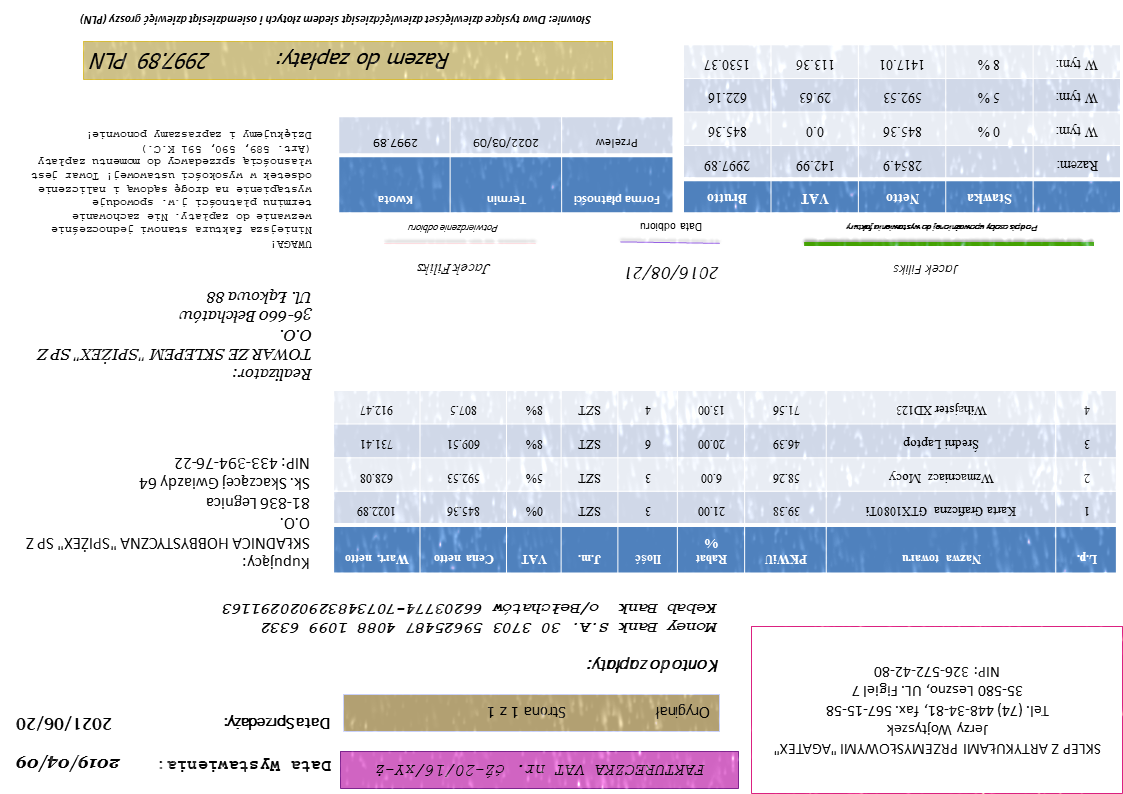Table: (331, 389, 1118, 576), (682, 43, 1122, 215), (337, 116, 675, 216)
TextBox: (20, 451, 314, 575), (28, 127, 316, 253), (771, 662, 1106, 761), (33, 286, 316, 385), (220, 599, 721, 638), (76, 9, 595, 30), (87, 47, 454, 75), (372, 761, 708, 780), (484, 700, 713, 724), (844, 218, 1041, 237), (157, 756, 335, 777), (584, 653, 723, 679), (222, 711, 335, 735), (623, 260, 724, 285), (12, 752, 124, 773), (16, 712, 114, 735), (414, 259, 495, 281), (404, 220, 503, 237), (889, 260, 962, 280), (638, 220, 705, 235)
